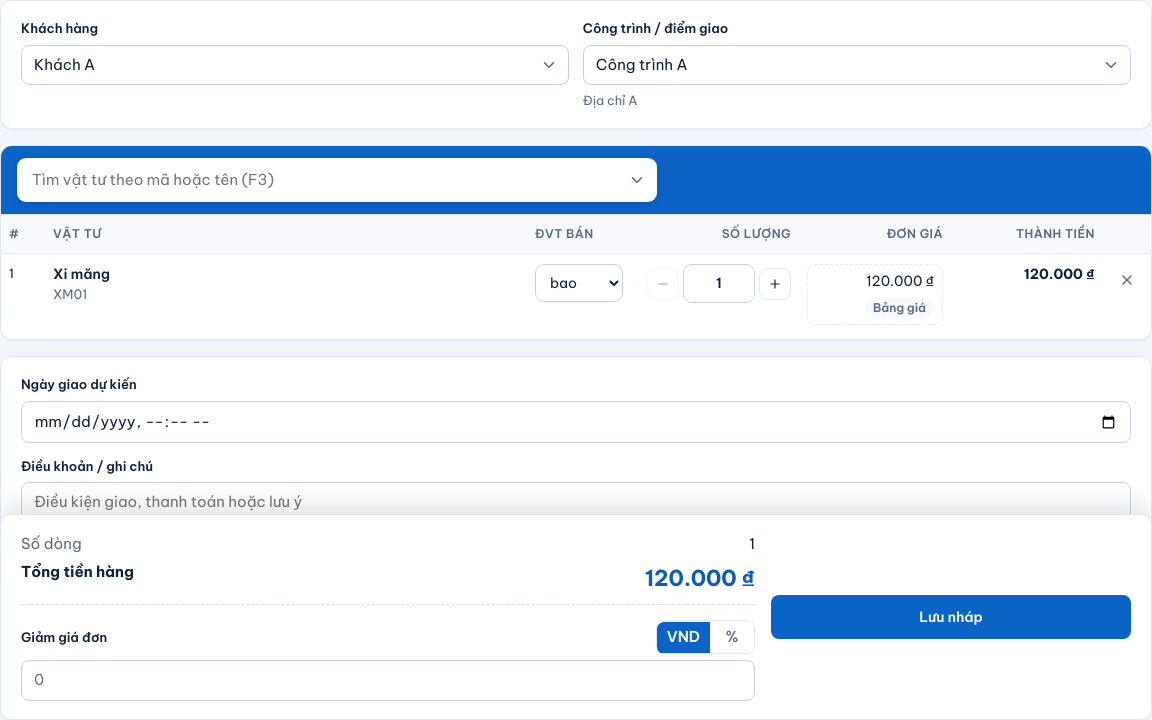
Test: refuses a discount as large as the price, in the popup and for the whole order
Check: the button "Lưu nháp" is enabled, box [771, 595, 1131, 639]
Click the button with aria-label "Đơn giá và giảm giá dòng 1". click: click(875, 295)
box: [807, 264, 943, 325]
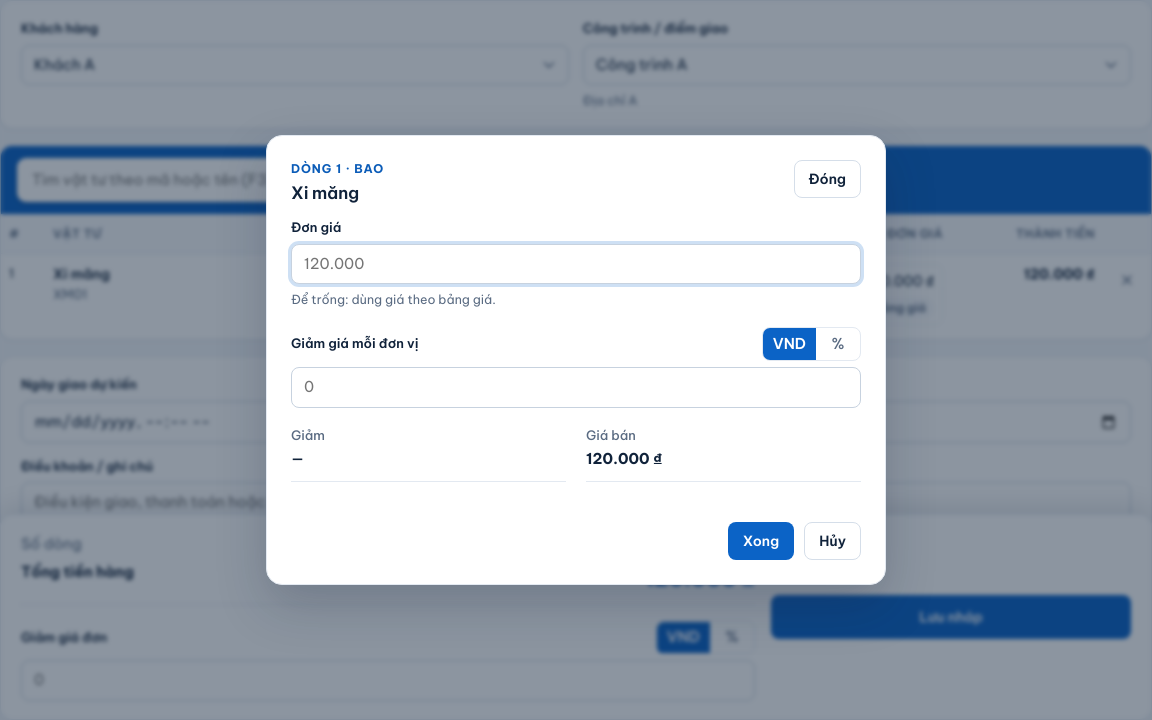
Type "120000" into the field labelled "Giảm giá mỗi đơn vị". click: (576, 387)
box: [291, 367, 861, 408]
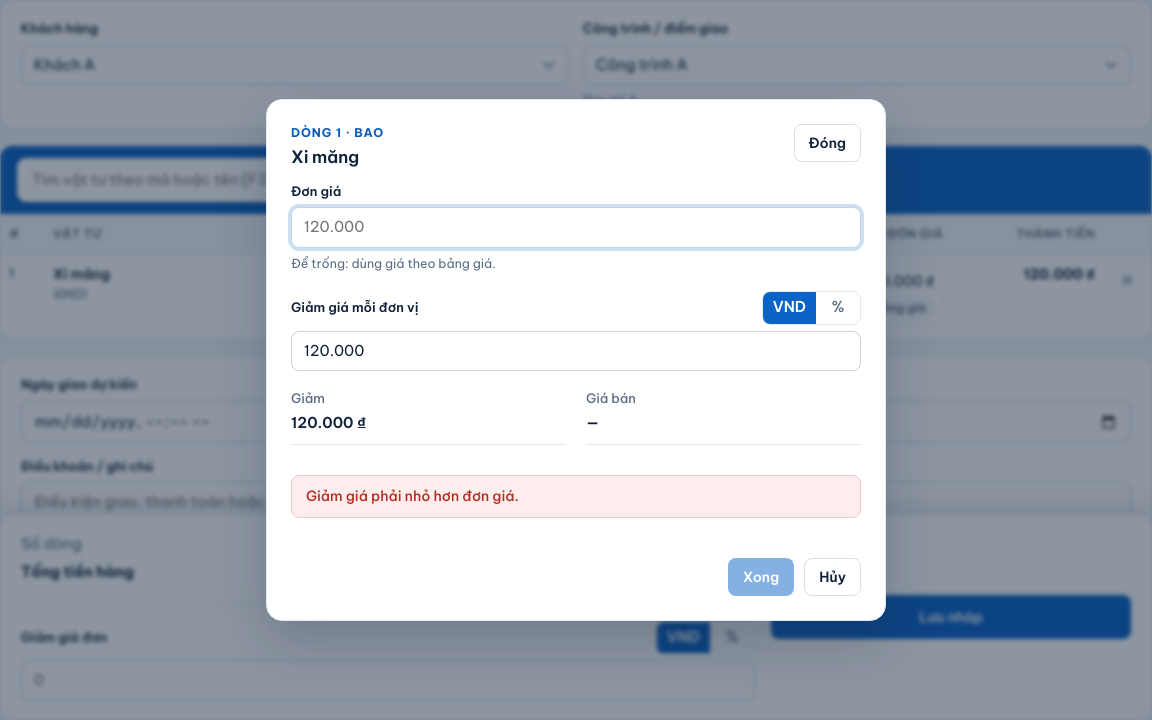
Check: the message reads "Giảm giá phải nhỏ hơn đơn giá.", box [306, 487, 519, 505]
Check: the button "Xong" is disabled, box [728, 558, 794, 596]
Click the button "Hủy". click: click(833, 577)
box: [804, 558, 861, 596]
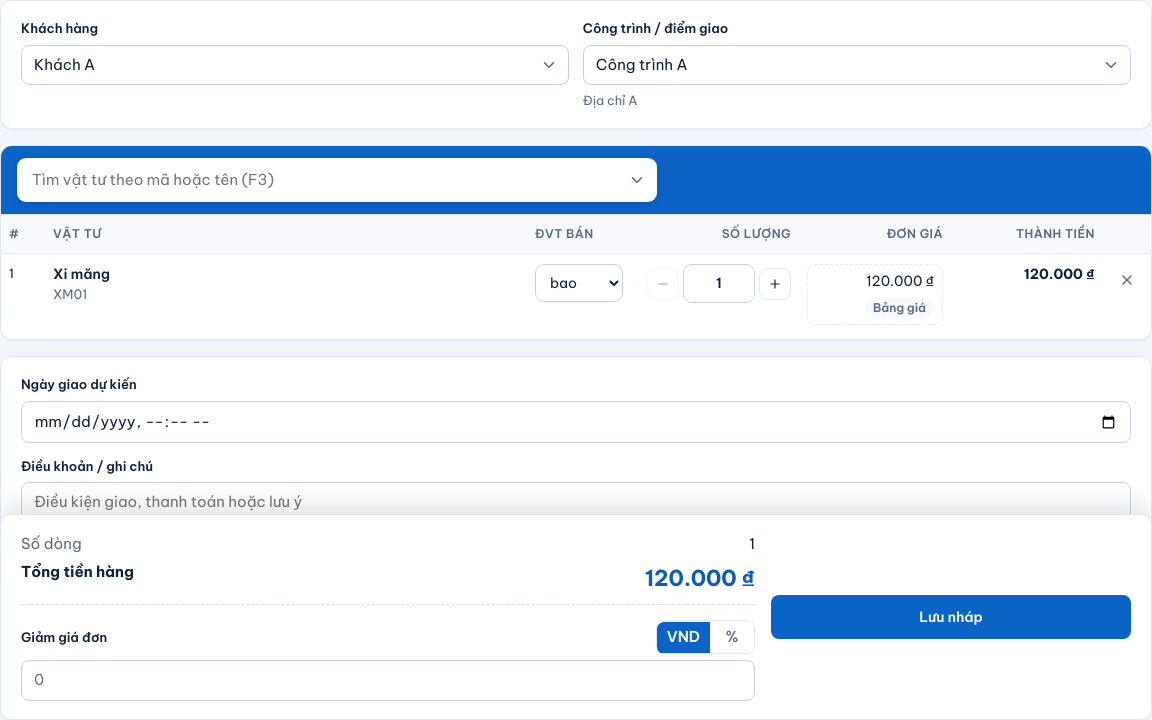
Type "120000" into the field labelled "Giảm giá đơn". click: (388, 681)
box: [21, 660, 755, 701]
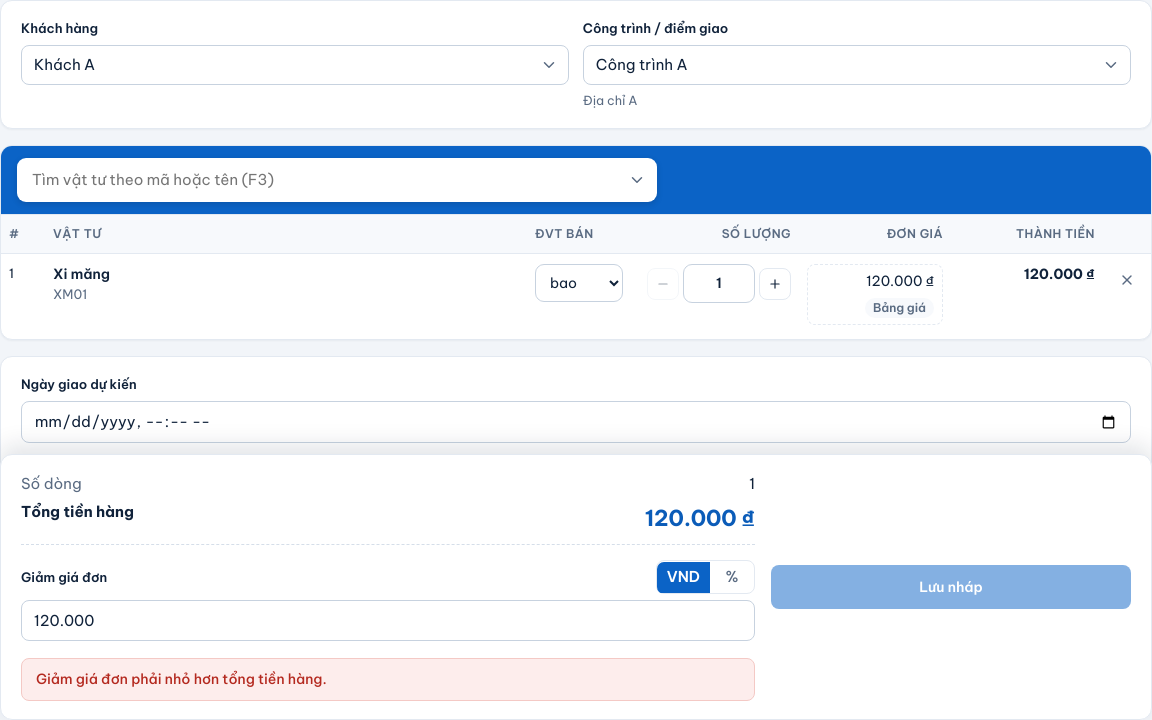
Check: the text "Giảm giá đơn phải nhỏ hơn tổng tiền hàng." is shown, box [21, 658, 755, 701]
Check: the button "Lưu nháp" is disabled, box [771, 565, 1131, 609]
